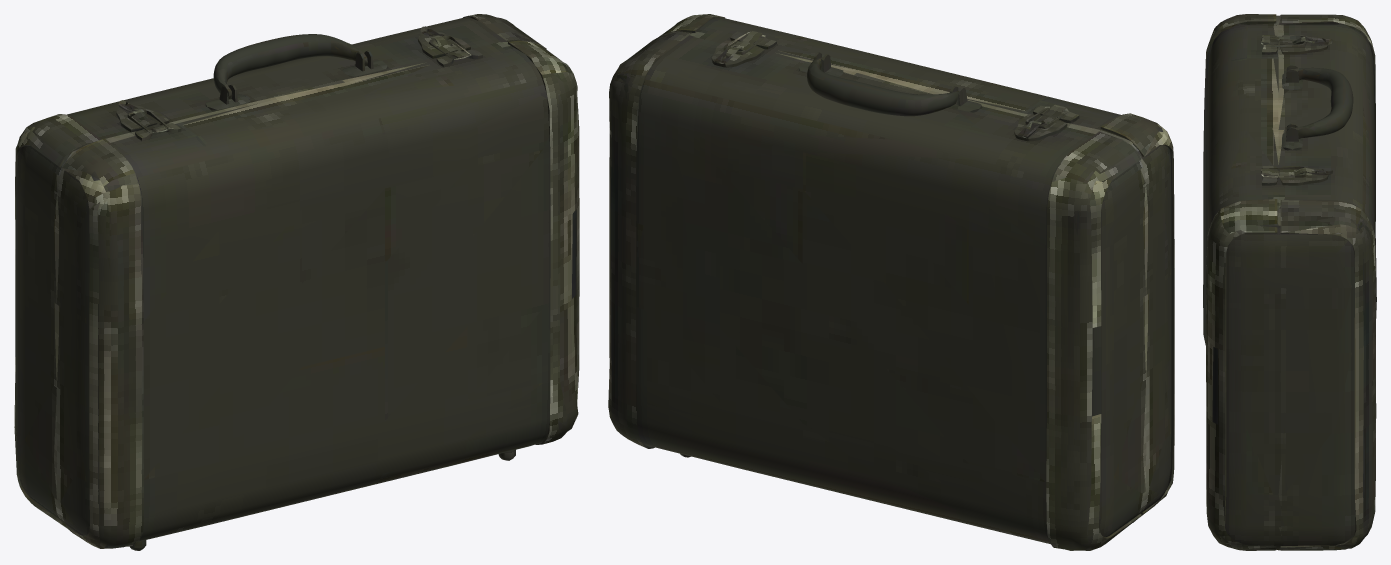
The model's file is b_suitcase.glb.
3 views of the same model, side by side, from view 1: azimuth 30°, elevation 25°; view 2: azimuth 150°, elevation 25°; view 3: azimuth 270°, elevation 25° (orthographic). The views are drawn at different scales.
Visible parts, largest first — view 1: body; view 2: body; view 3: body.
Boxes of the visible parts, x1,y1,x2,y2 form: body: (14, 14, 579, 550); body: (608, 14, 1174, 550); body: (1203, 14, 1376, 550).
Bounding box in the file's own units: 0.6936 × 0.5679 × 0.2379.
1 material, 1 textured.
